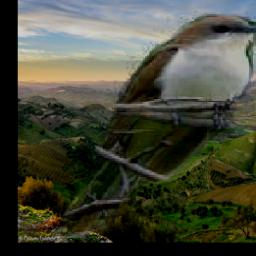Cuckoo: (49, 11, 256, 239)
